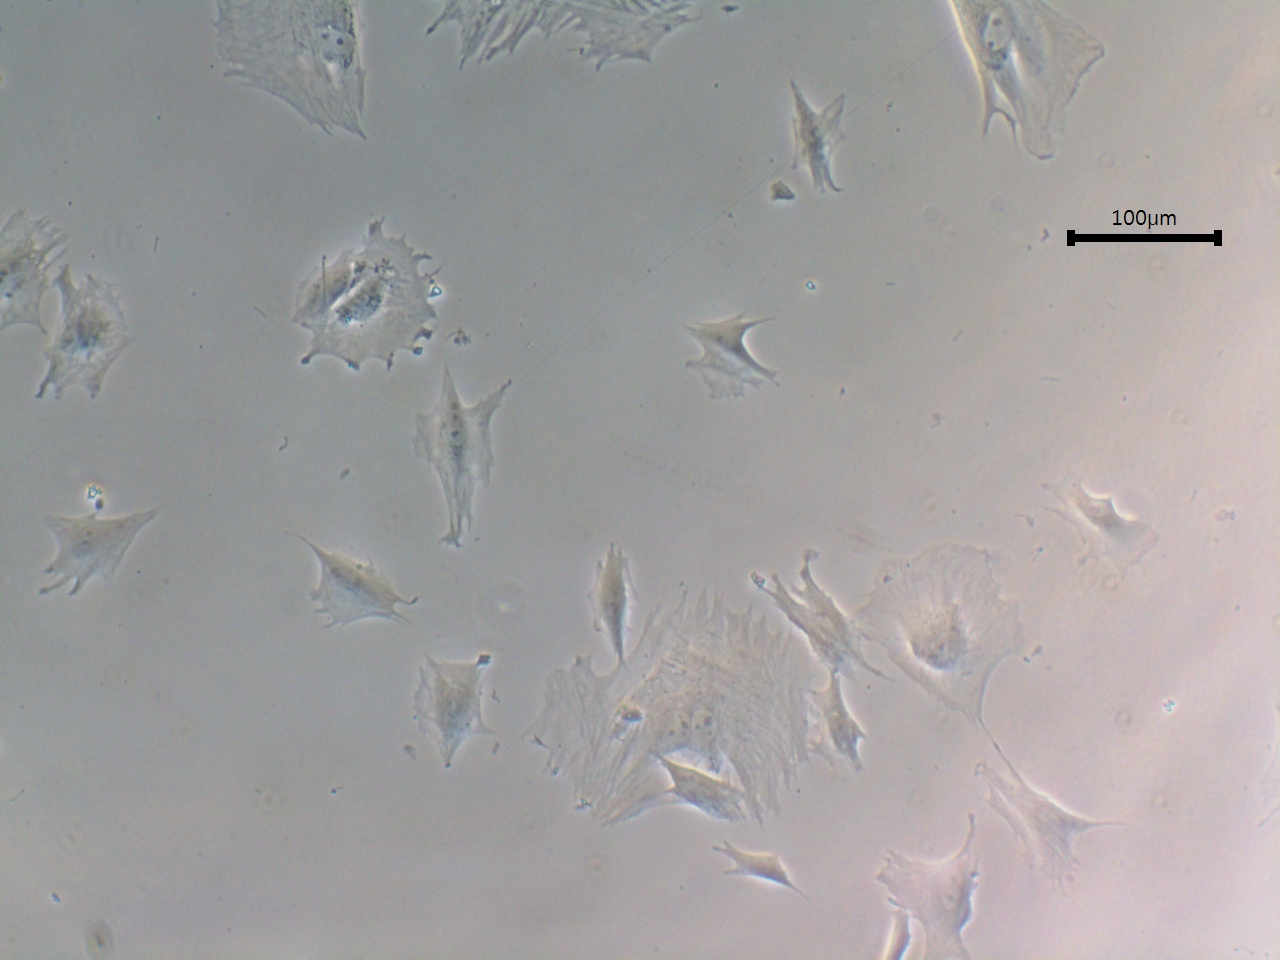dividing: (410, 365, 520, 563)
medium-spread: (279, 225, 451, 379), (28, 256, 148, 414), (683, 294, 791, 419), (779, 65, 871, 204)
small-polygonal: (701, 843, 806, 902)
small-spread: (297, 527, 425, 648)
